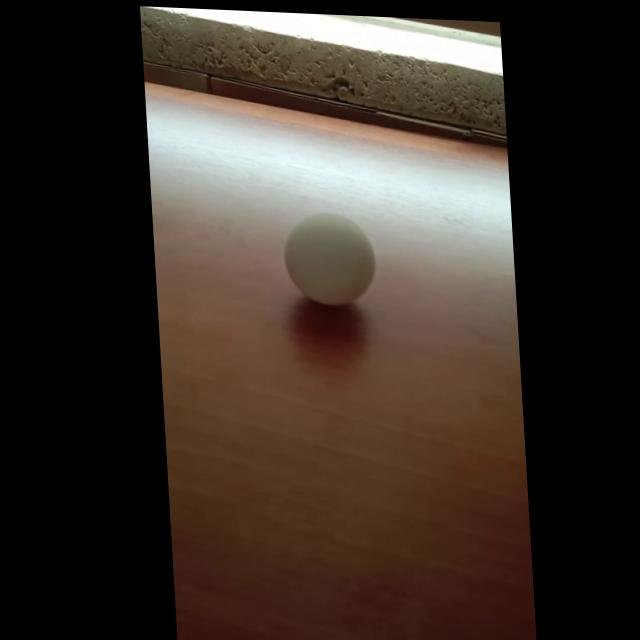white ball: (281, 210, 378, 308)
